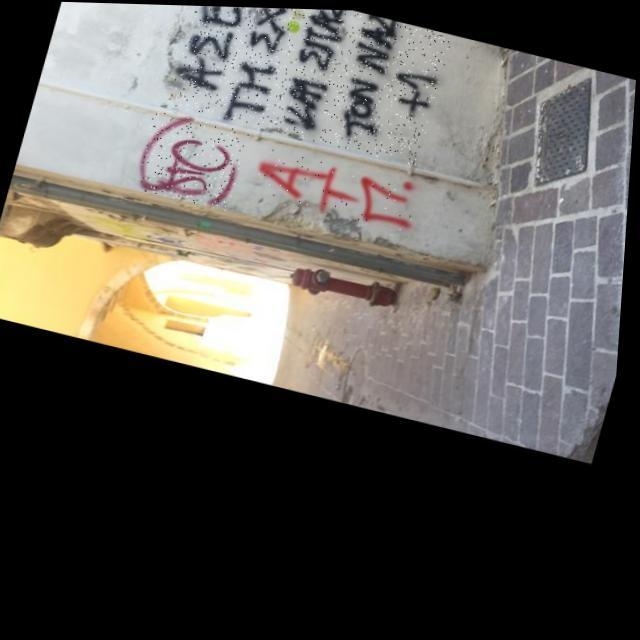-: (166, 4, 454, 164), (250, 144, 426, 229), (134, 107, 252, 210), (283, 7, 310, 36)
